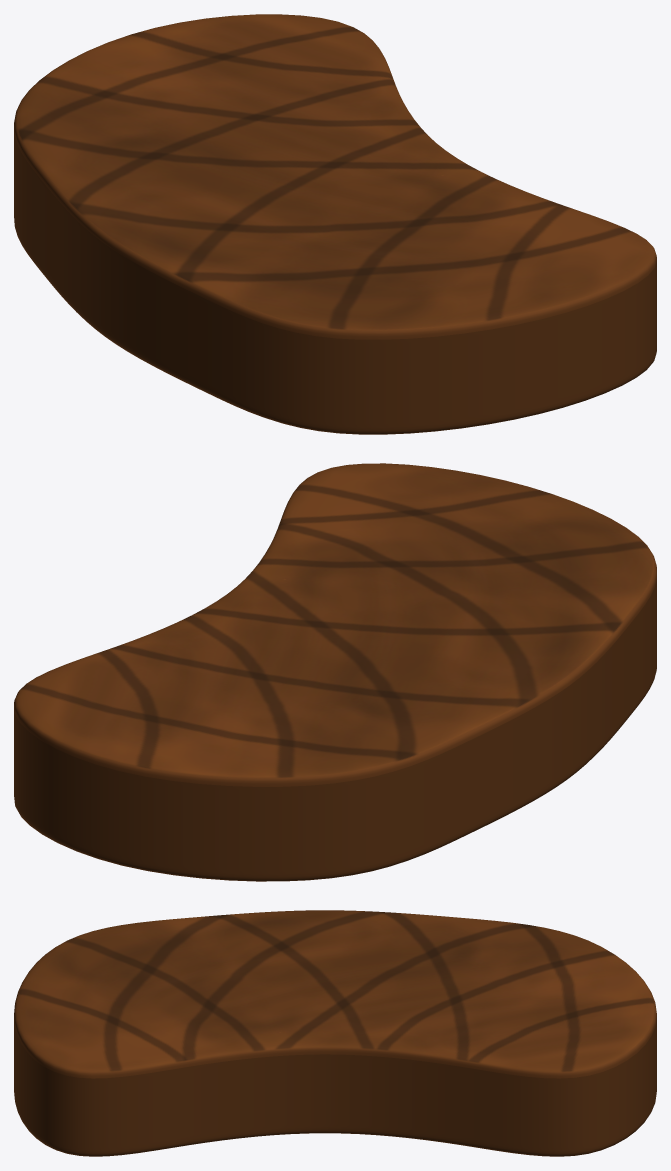
The model's file is SM_MeatBake.fbx.
3 views of the same model, one above another, from view 1: azimuth 30°, elevation 25°; view 2: azimuth 150°, elevation 25°; view 3: azimuth 270°, elevation 25° (orthographic). The views are drawn at different scales.
Visible parts, largest first — view 1: SM_MeatBake; view 2: SM_MeatBake; view 3: SM_MeatBake.
Boxes of the visible parts, bbox=[...] form: SM_MeatBake: bbox=[14, 14, 656, 434]; SM_MeatBake: bbox=[14, 463, 656, 881]; SM_MeatBake: bbox=[14, 910, 656, 1156].
Size of the model in its own units: 28.02 by 7.27 by 46.64.
